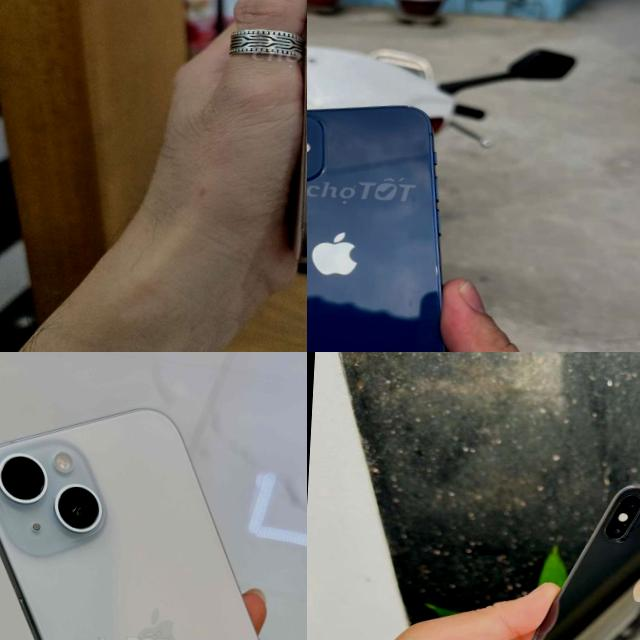gen_12_13: (307, 91, 507, 352)
gen_15: (0, 391, 307, 640)
gen_16: (253, 0, 307, 286)
